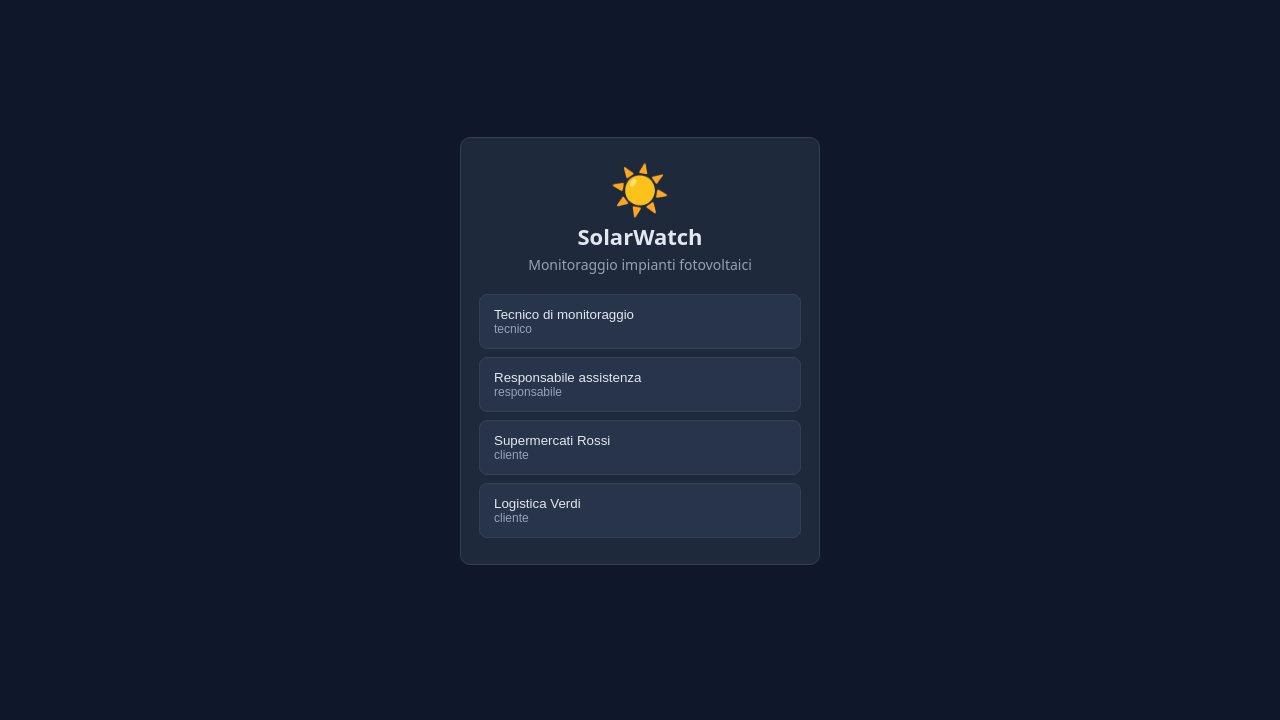
Test: SolarWatch - navigazione tecnico › permette di navigare verso gli alert
Click the button with test id "login-tecnico" at [564, 315], box x1=479 y1=294 x2=801 y2=349
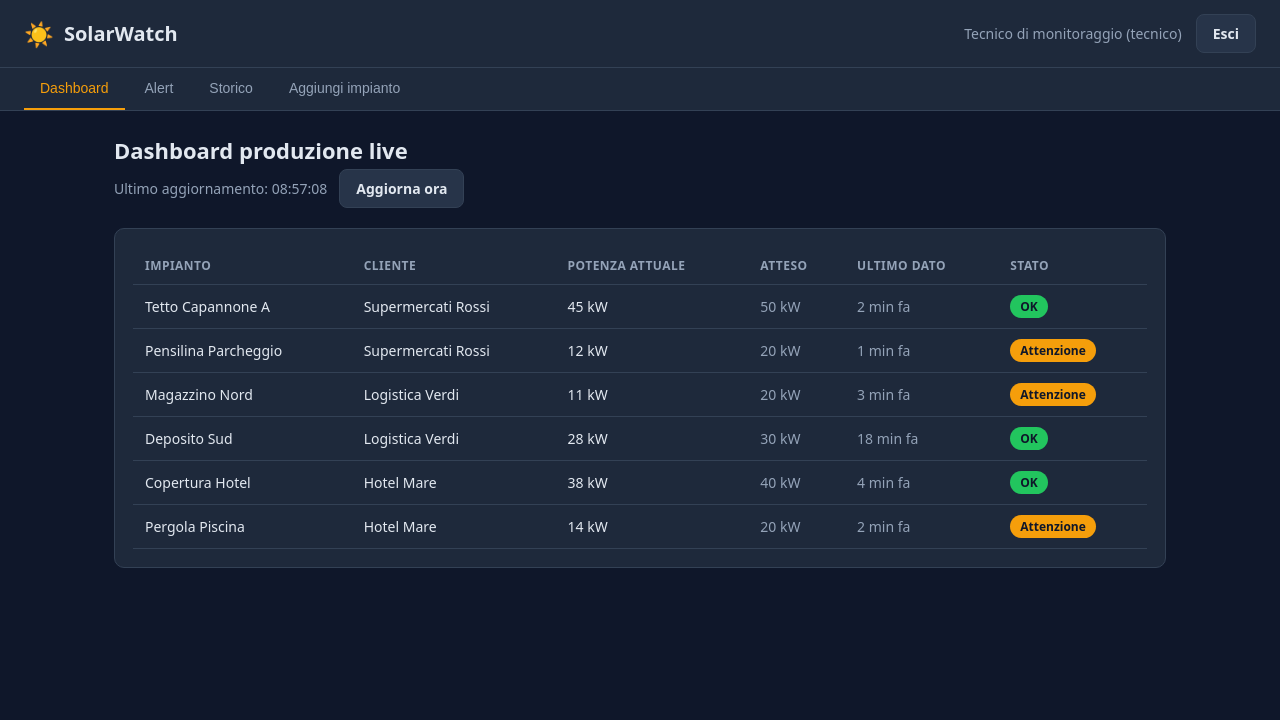
Click the button with test id "nav-alerts" at [160, 89], box x1=129 y1=68 x2=190 y2=110
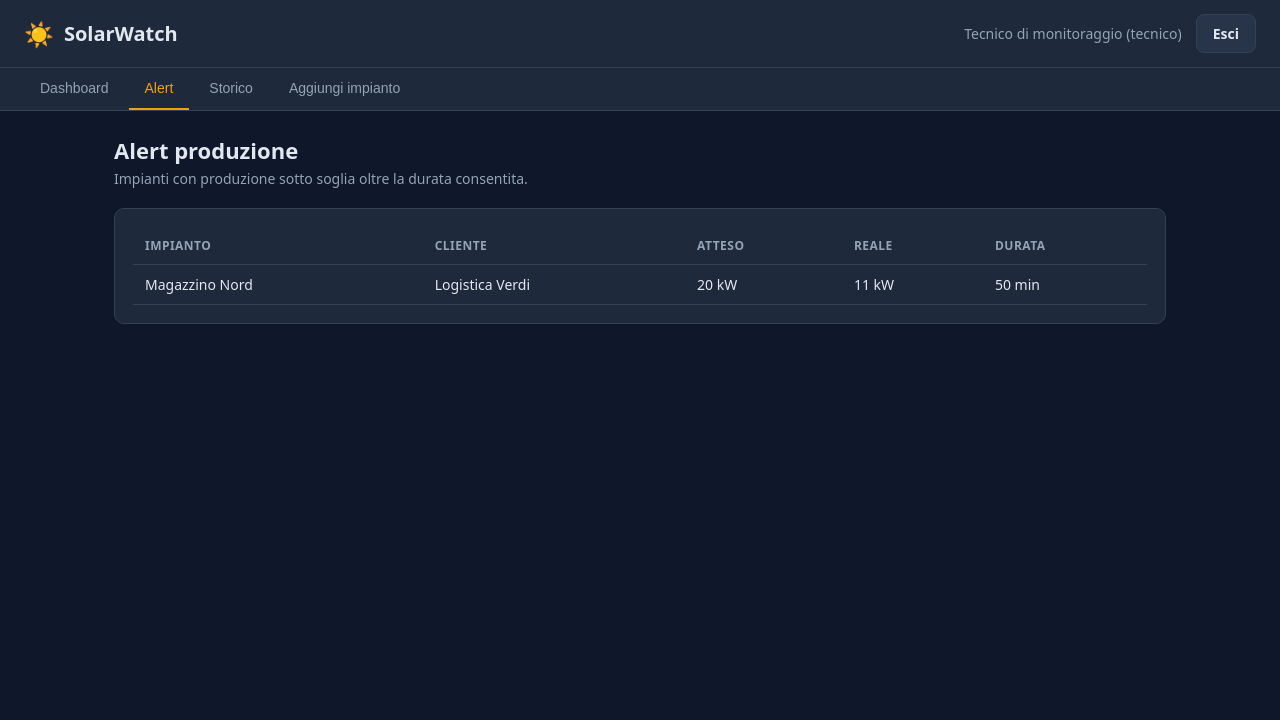
Expected: the element with test id "alerts" is shown, x1=114 y1=135 x2=1166 y2=324
